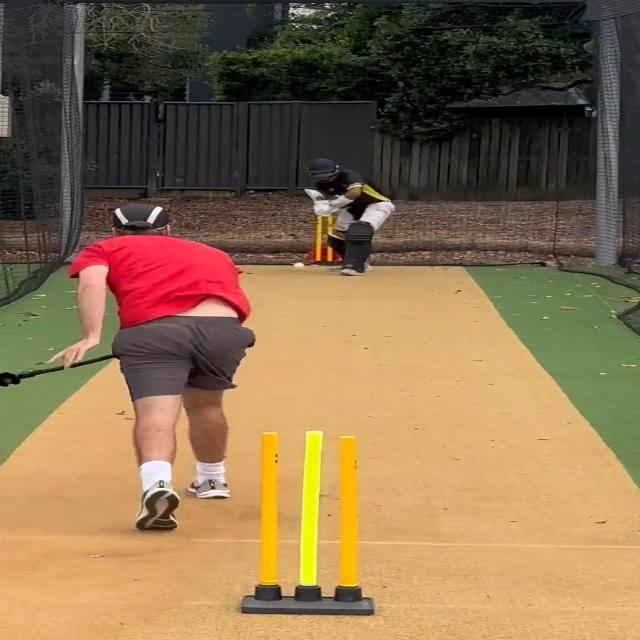ball: (291, 262, 306, 271)
stump: (242, 429, 376, 616)
